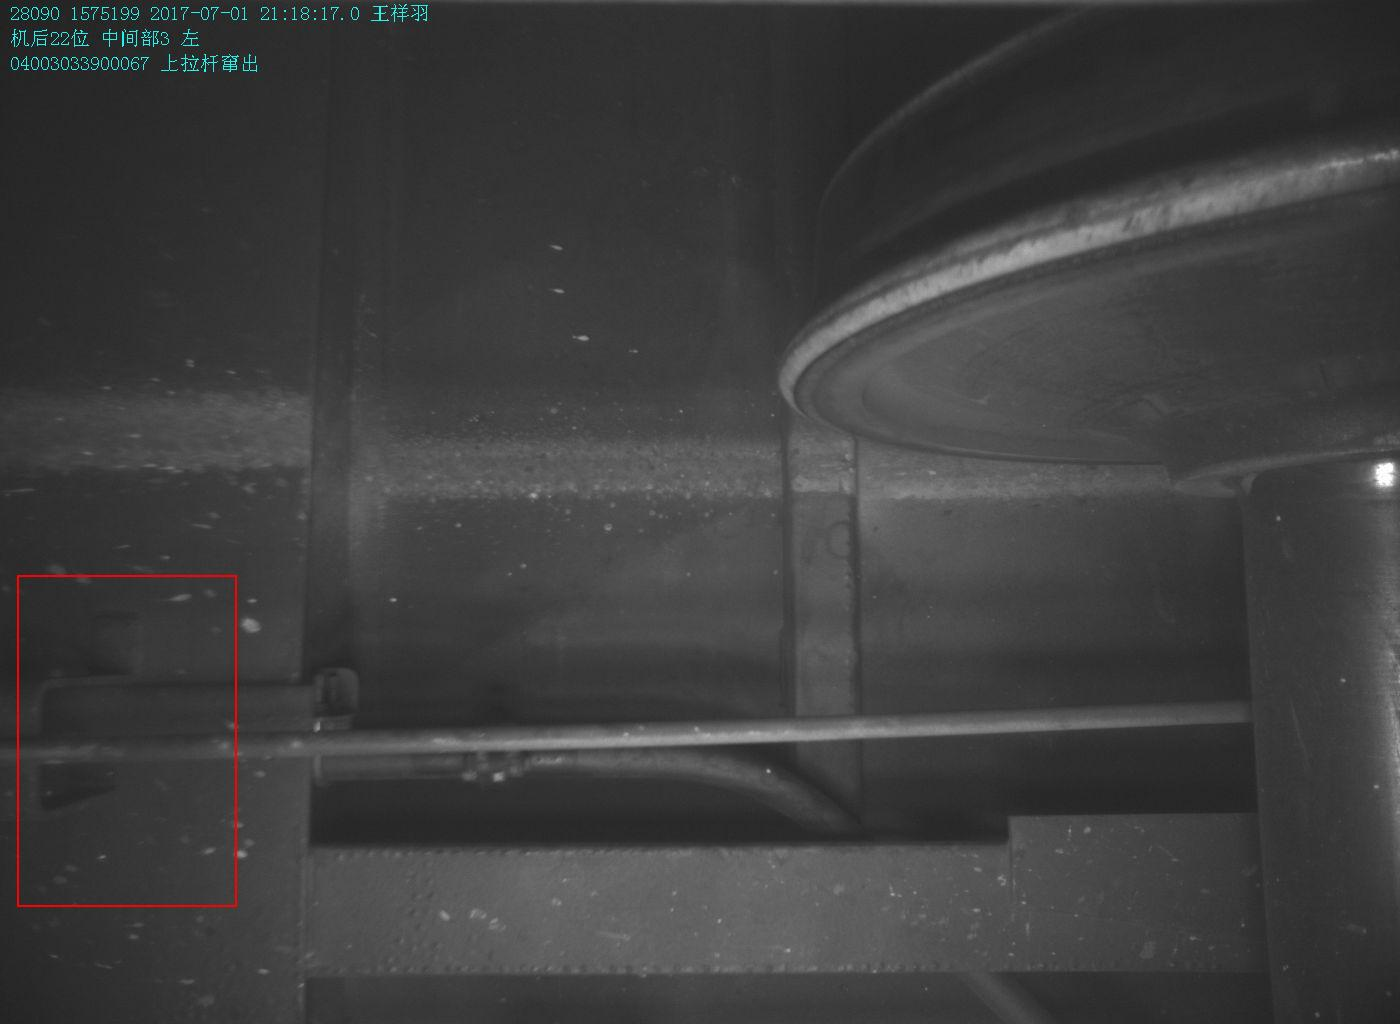upper lever: (10, 675, 123, 823)
